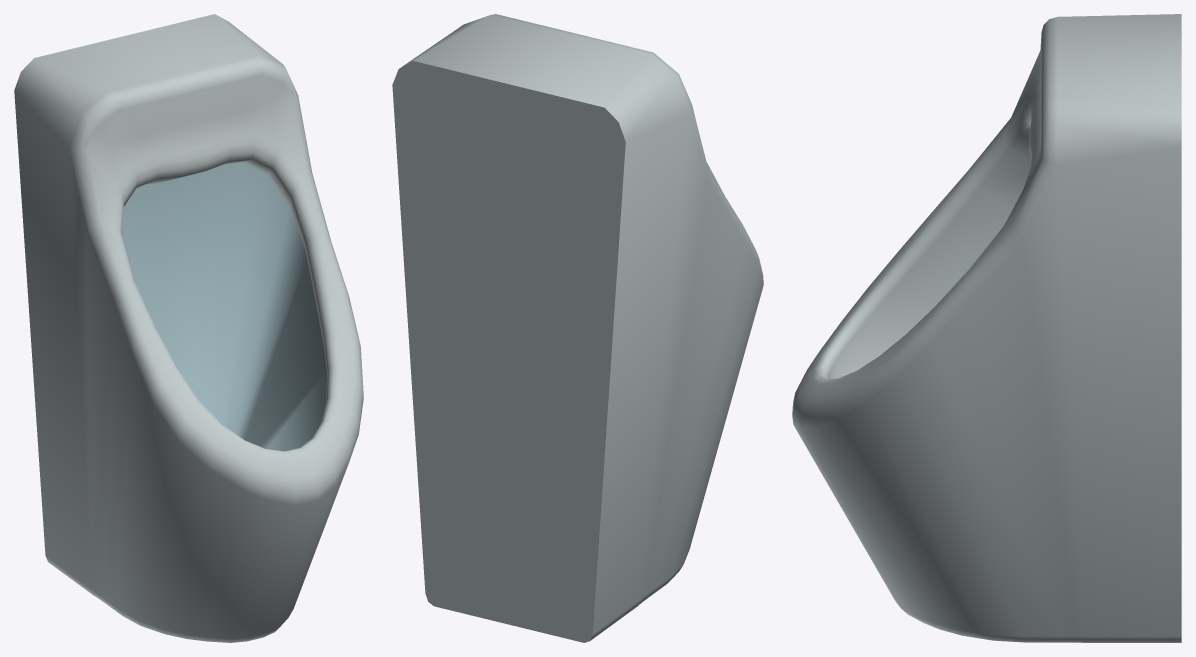
The model's file is Urinal.fbx.
The picture shows the model from 3 angles, left to right: view 1: azimuth 30°, elevation 25°; view 2: azimuth 150°, elevation 25°; view 3: azimuth 270°, elevation 25°; orthographic projection. The views are drawn at different scales.
Visible parts, largest first — view 1: Urinal; view 2: Urinal; view 3: Urinal.
Part boxes in pixels (box(x1,y1,x2,y2)): Urinal: box(14, 14, 363, 642); Urinal: box(392, 14, 763, 642); Urinal: box(792, 14, 1181, 642).
Bounding box in the file's own units: 0.312 × 0.678 × 0.4354.
